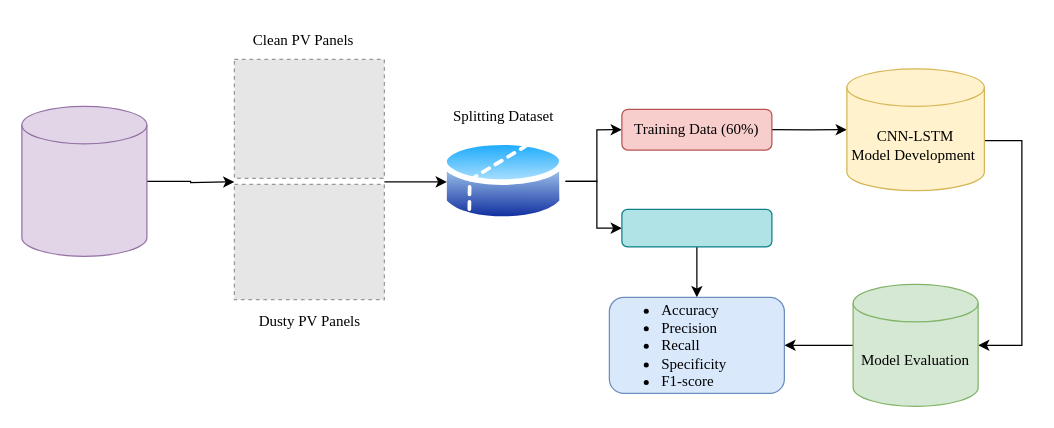
This 1054x428 diagram has some shape labels left out. Grey dashed boxes stand in for pictures. Each missing label, with the centre of its shape:
"Data Pre-processing" belongs at pixel 84 180.
"Testing Data (40%)" belongs at pixel 696 227.
